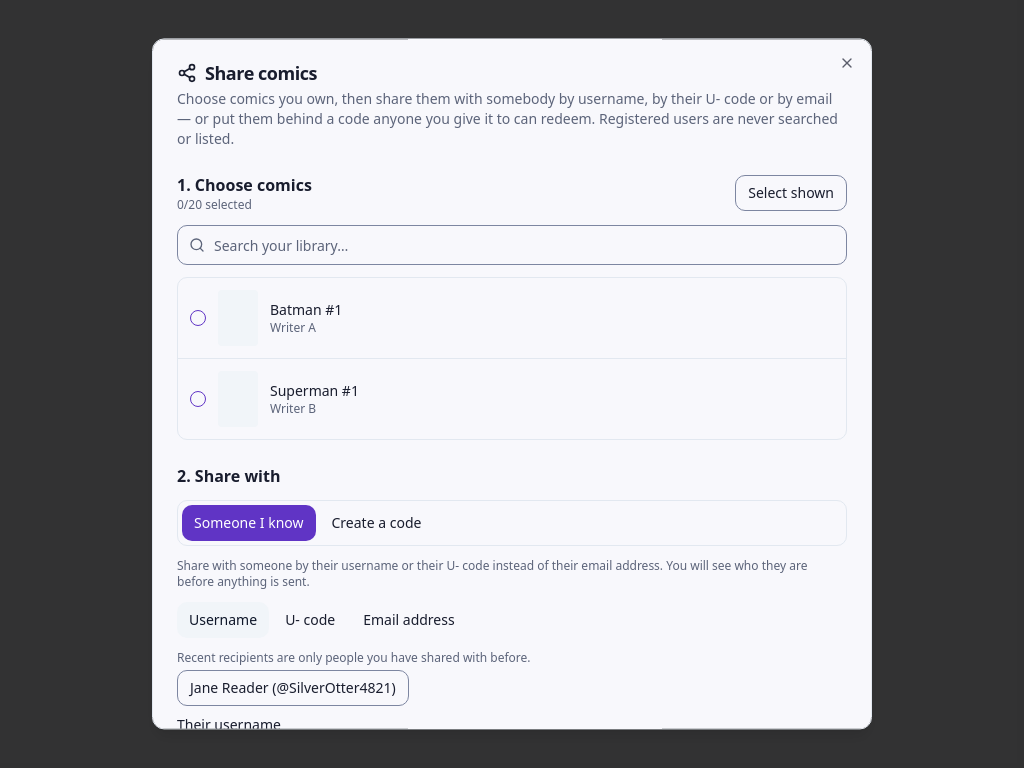
ShareComicsDialog › will not send to a username until it has been checked
Expected: the text "Batman #1" is shown, [270,300,342,319]
Click the checkbox named "Select Batman #1" at (198,318), box [190,310,206,326]
(page scrolled)
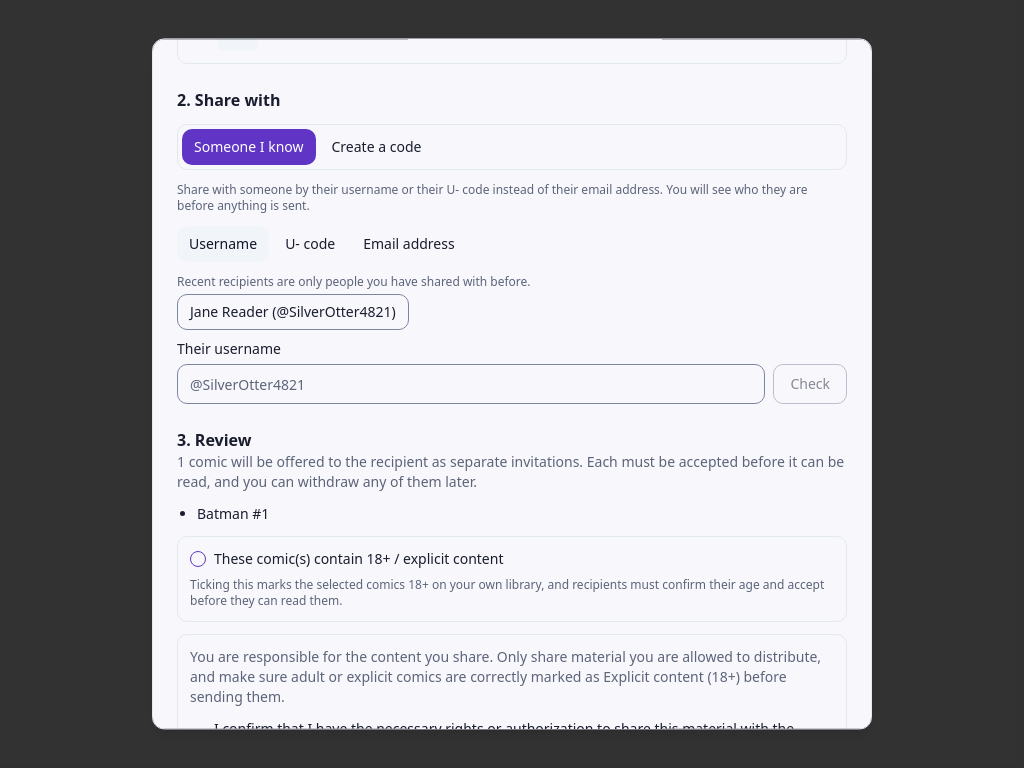
Type "SilverOtter4821" into the field labelled "Their username" at (471,384), box [177,364,765,404]
(page scrolled)
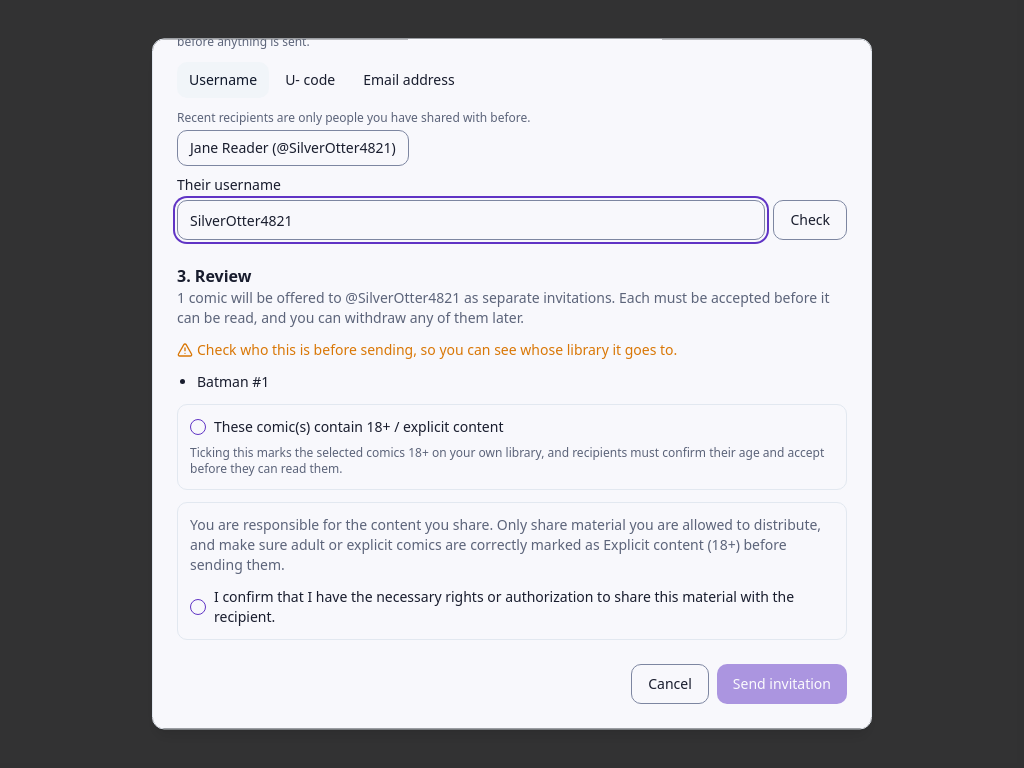
Click the 2nd checkbox named "I confirm that I have the necessary rights" at (198,607), box [190,599,206,615]
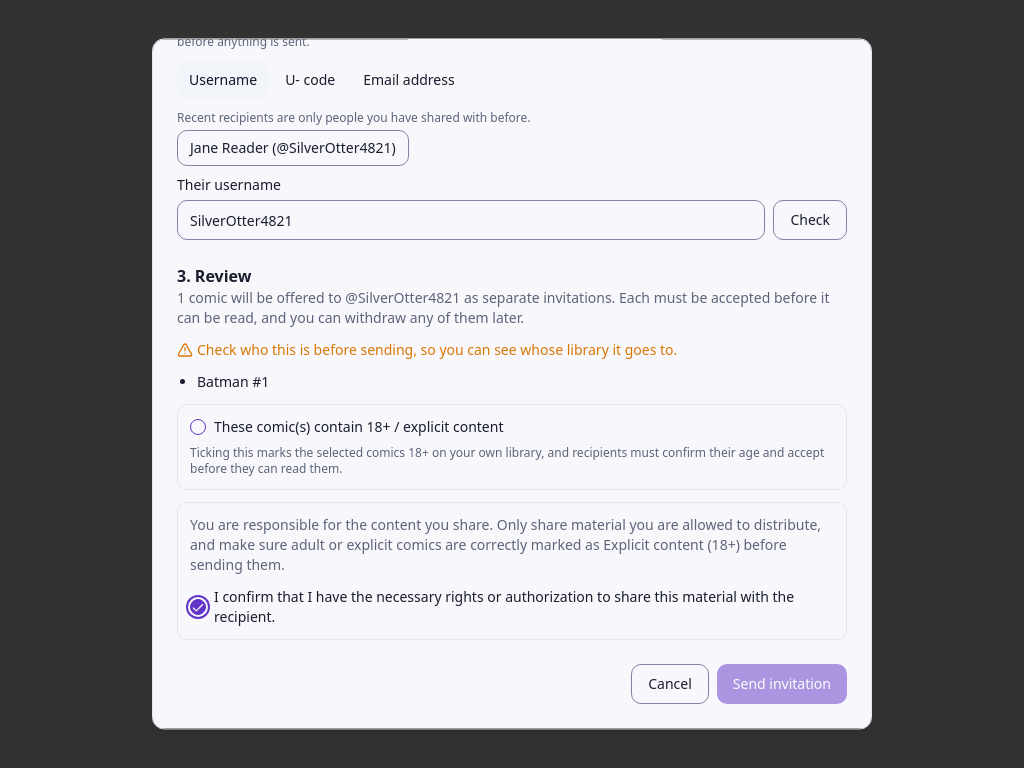
Result: the button "Send invitation" is disabled at [717,664,847,704]
Result: the text "Check who this is before sending" is shown at [197,340,677,359]
Click the button "Check" at (810,220), box [773,200,847,240]
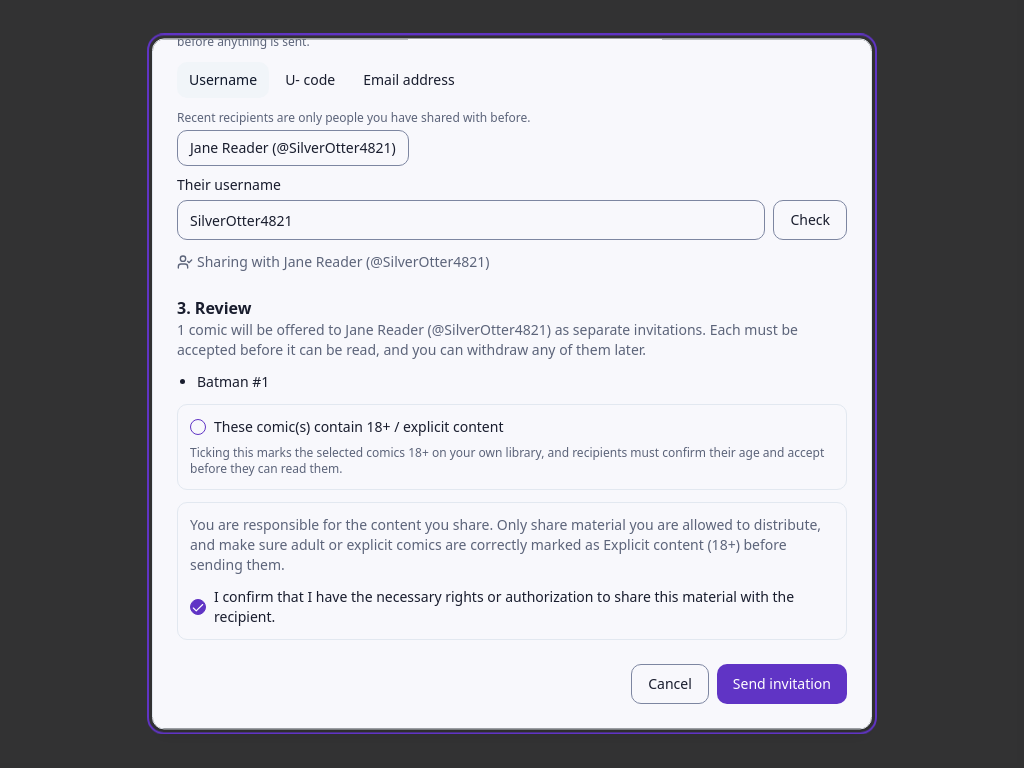
Result: the text "Sharing with Jane Reader (@SilverOtter4821)" is shown at [177,252,490,271]
Result: the button "Send invitation" is enabled at [717,664,847,704]
